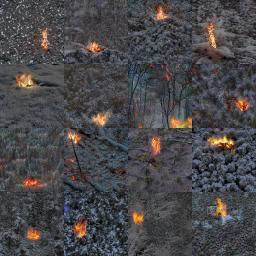Small fire: (207, 136, 238, 151), (206, 23, 221, 51), (16, 72, 37, 89), (75, 220, 88, 246), (216, 198, 229, 223), (148, 136, 164, 156), (91, 112, 111, 127), (85, 41, 105, 55), (67, 130, 85, 145), (26, 227, 42, 243), (153, 6, 169, 21), (172, 117, 192, 129), (40, 28, 50, 49), (235, 97, 250, 111), (24, 177, 39, 189), (132, 210, 144, 225)
